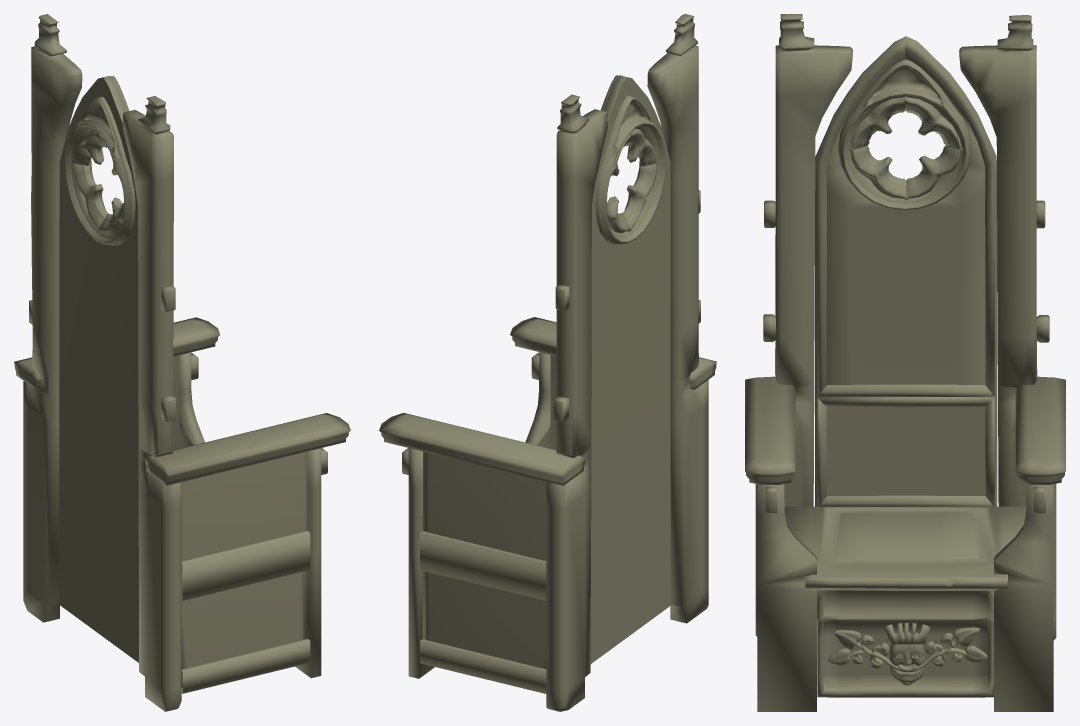
3 views of the same model, side by side, from view 1: azimuth 30°, elevation 25°; view 2: azimuth 150°, elevation 25°; view 3: azimuth 270°, elevation 25° (orthographic). The views are drawn at different scales.
Visible parts, largest first — view 1: Throne; view 2: Throne; view 3: Throne.
Boxes of the visible parts, box(x1,y1,x2,y2) form: Throne: box(14, 14, 350, 711); Throne: box(379, 14, 716, 711); Throne: box(745, 14, 1065, 711).
Size of the model in its own units: 0.8089 by 2.48 by 1.16.
